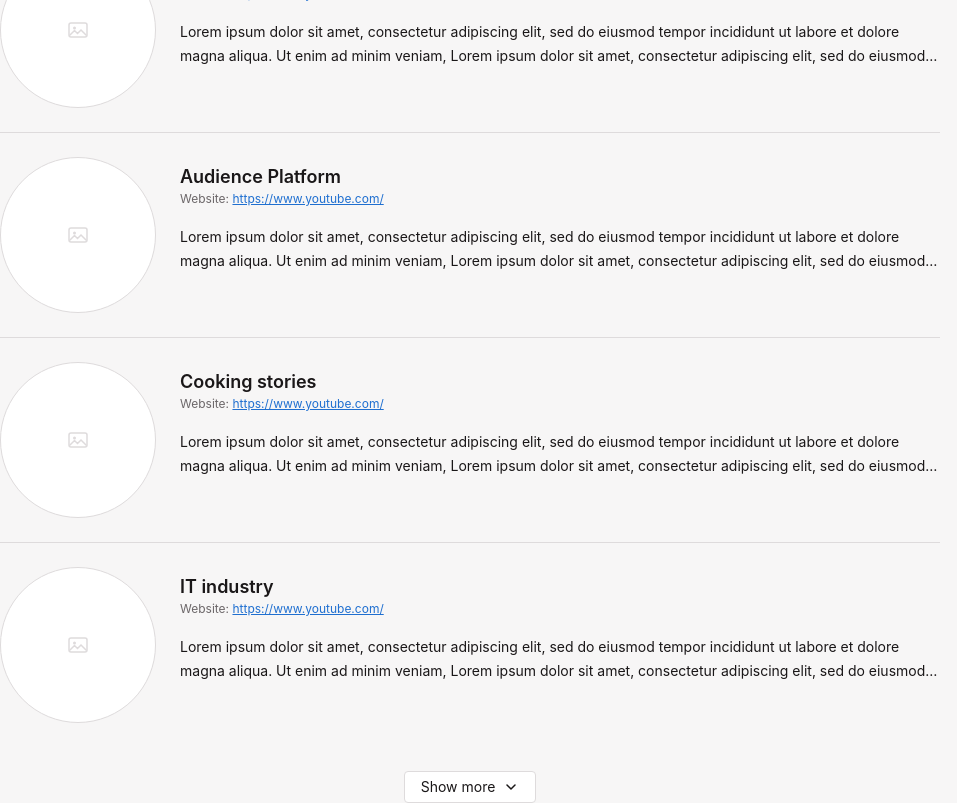
it: BlogsPage › hides the show more button once everything is loaded
The width and height of the screenshot is (957, 803).
(page scrolled)
What coordinates should you click on to do the following:
click the button "Show more"
I would click on:
 (470, 787)
Its box is 404,771 -> 536,802.
(page scrolled)
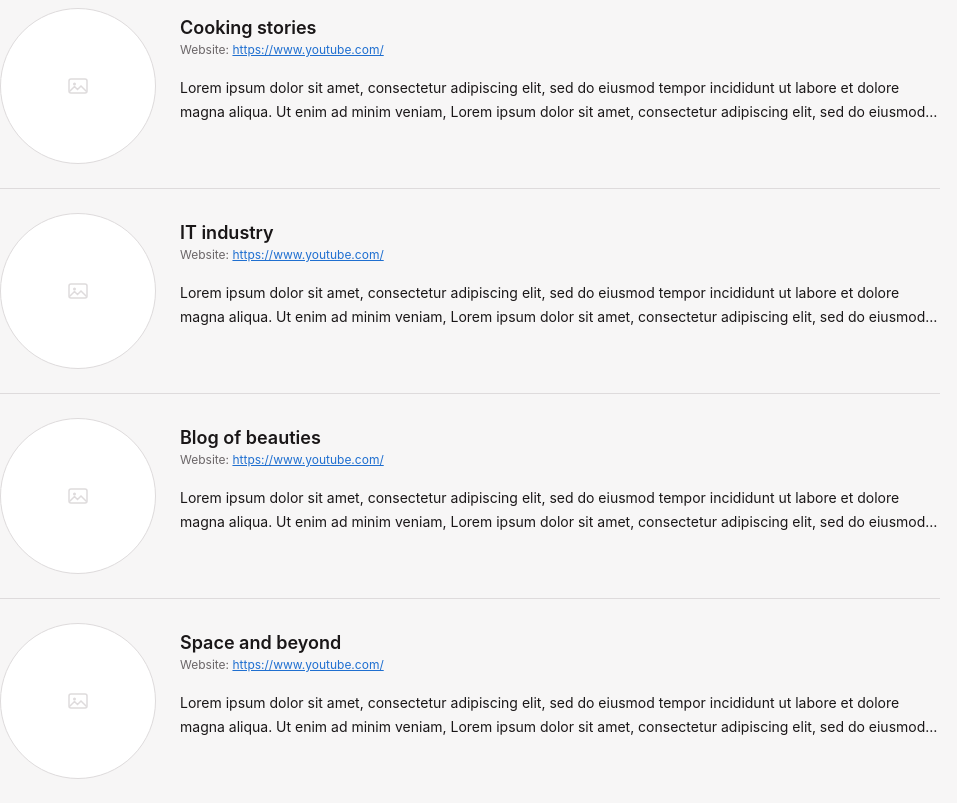
Check: the link "Space and beyond" is shown, box 180,632 -> 341,653
Check: the button "Show more" is gone
